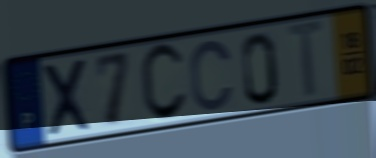0: (239, 29, 281, 107)
7: (94, 48, 133, 131)
C: (138, 40, 190, 125), (188, 37, 236, 114)
T: (284, 17, 330, 103)
X: (40, 55, 94, 140)
